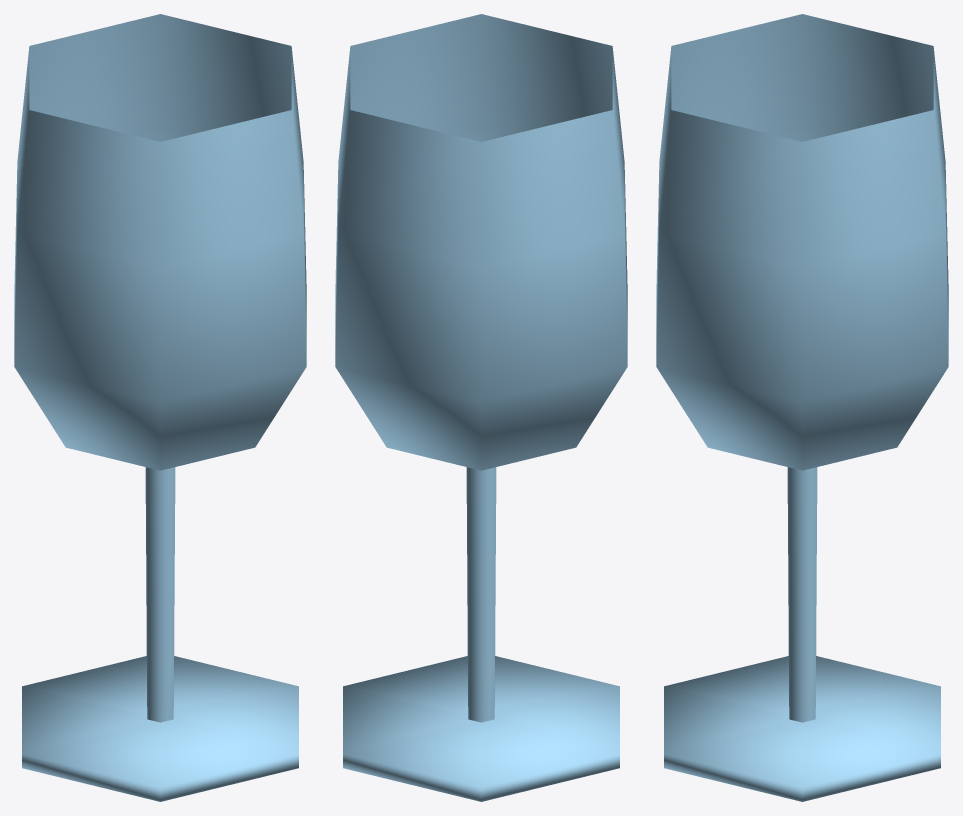
The model's file is cup.fbx.
3 renders of one model, left to right at view 1: azimuth 30°, elevation 25°; view 2: azimuth 150°, elevation 25°; view 3: azimuth 270°, elevation 25°, orthographic.
Parts seen in each view (by area): view 1: Mesh_Cup; view 2: Mesh_Cup; view 3: Mesh_Cup.
Part boxes in pixels (<box>): Mesh_Cup: <box>14,14,306,801</box>; Mesh_Cup: <box>335,14,627,801</box>; Mesh_Cup: <box>656,14,948,801</box>.
Bounding box in the file's own units: 10.45 × 22.4 × 9.05.
